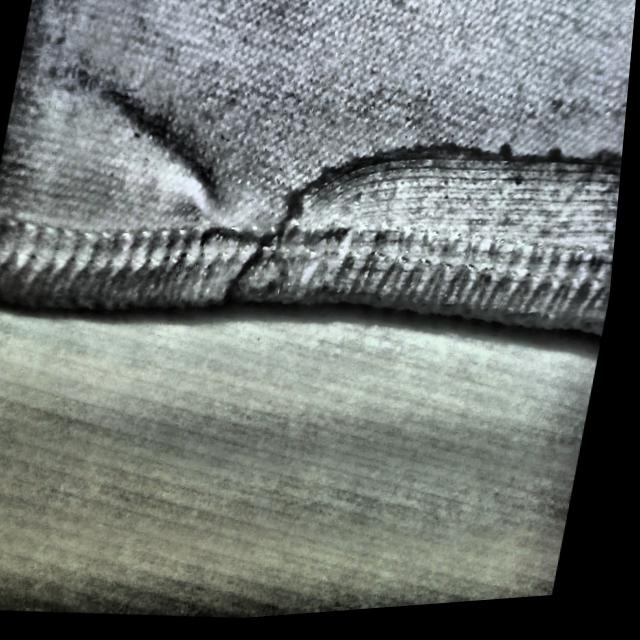seam: (247, 30, 632, 369)
